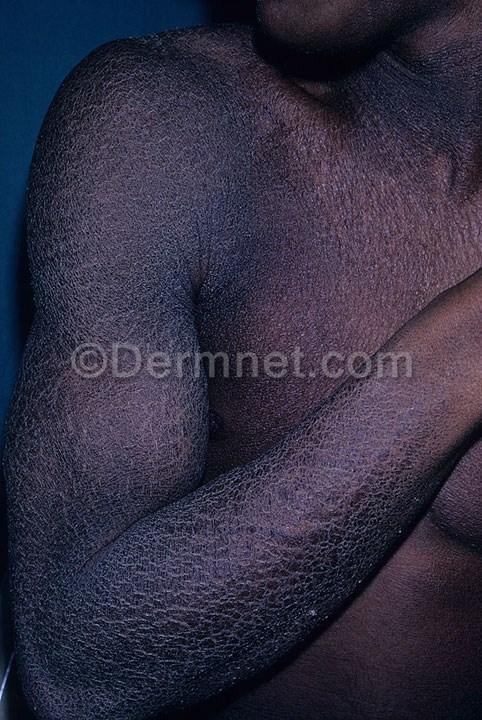liquenificacion 1: (0, 23, 461, 719)
xerosis 3: (0, 17, 481, 719)
